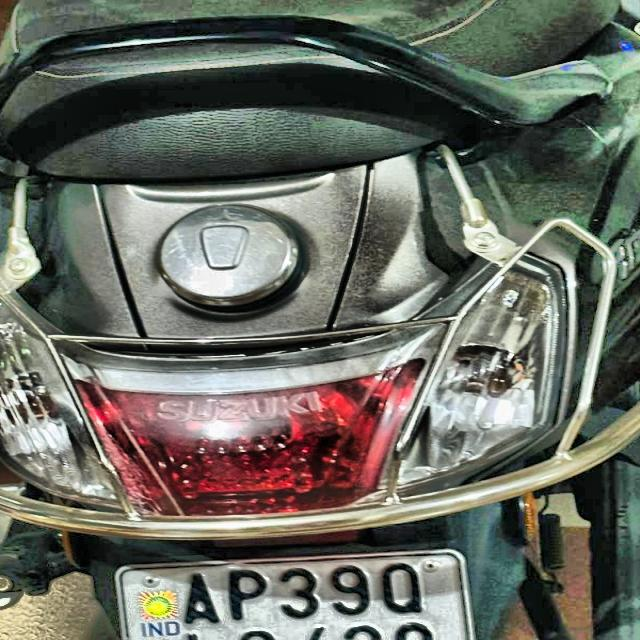license-plate: (118, 552, 471, 640)
